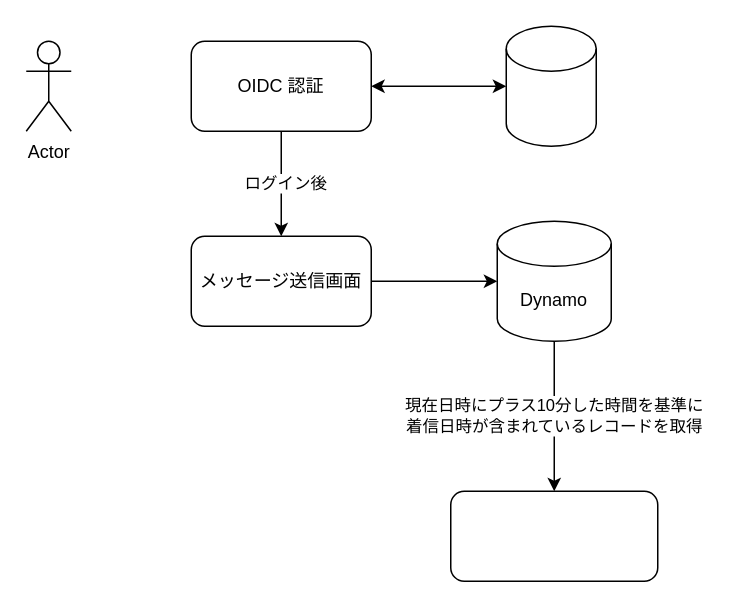
Image size: 729x608. Some labels were removed from this diagram. Each missing label, with the centre of its shape:
google: [550,85]
宛先にメッセージ送信: [553,535]
